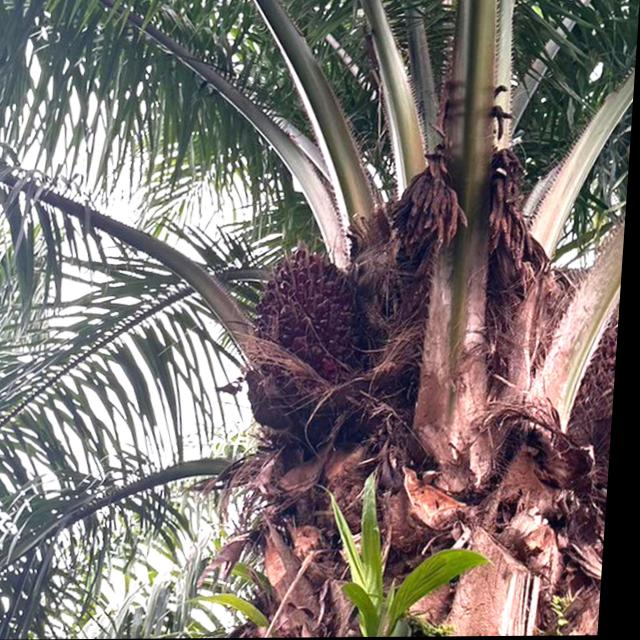ripe: (251, 242, 378, 418)
